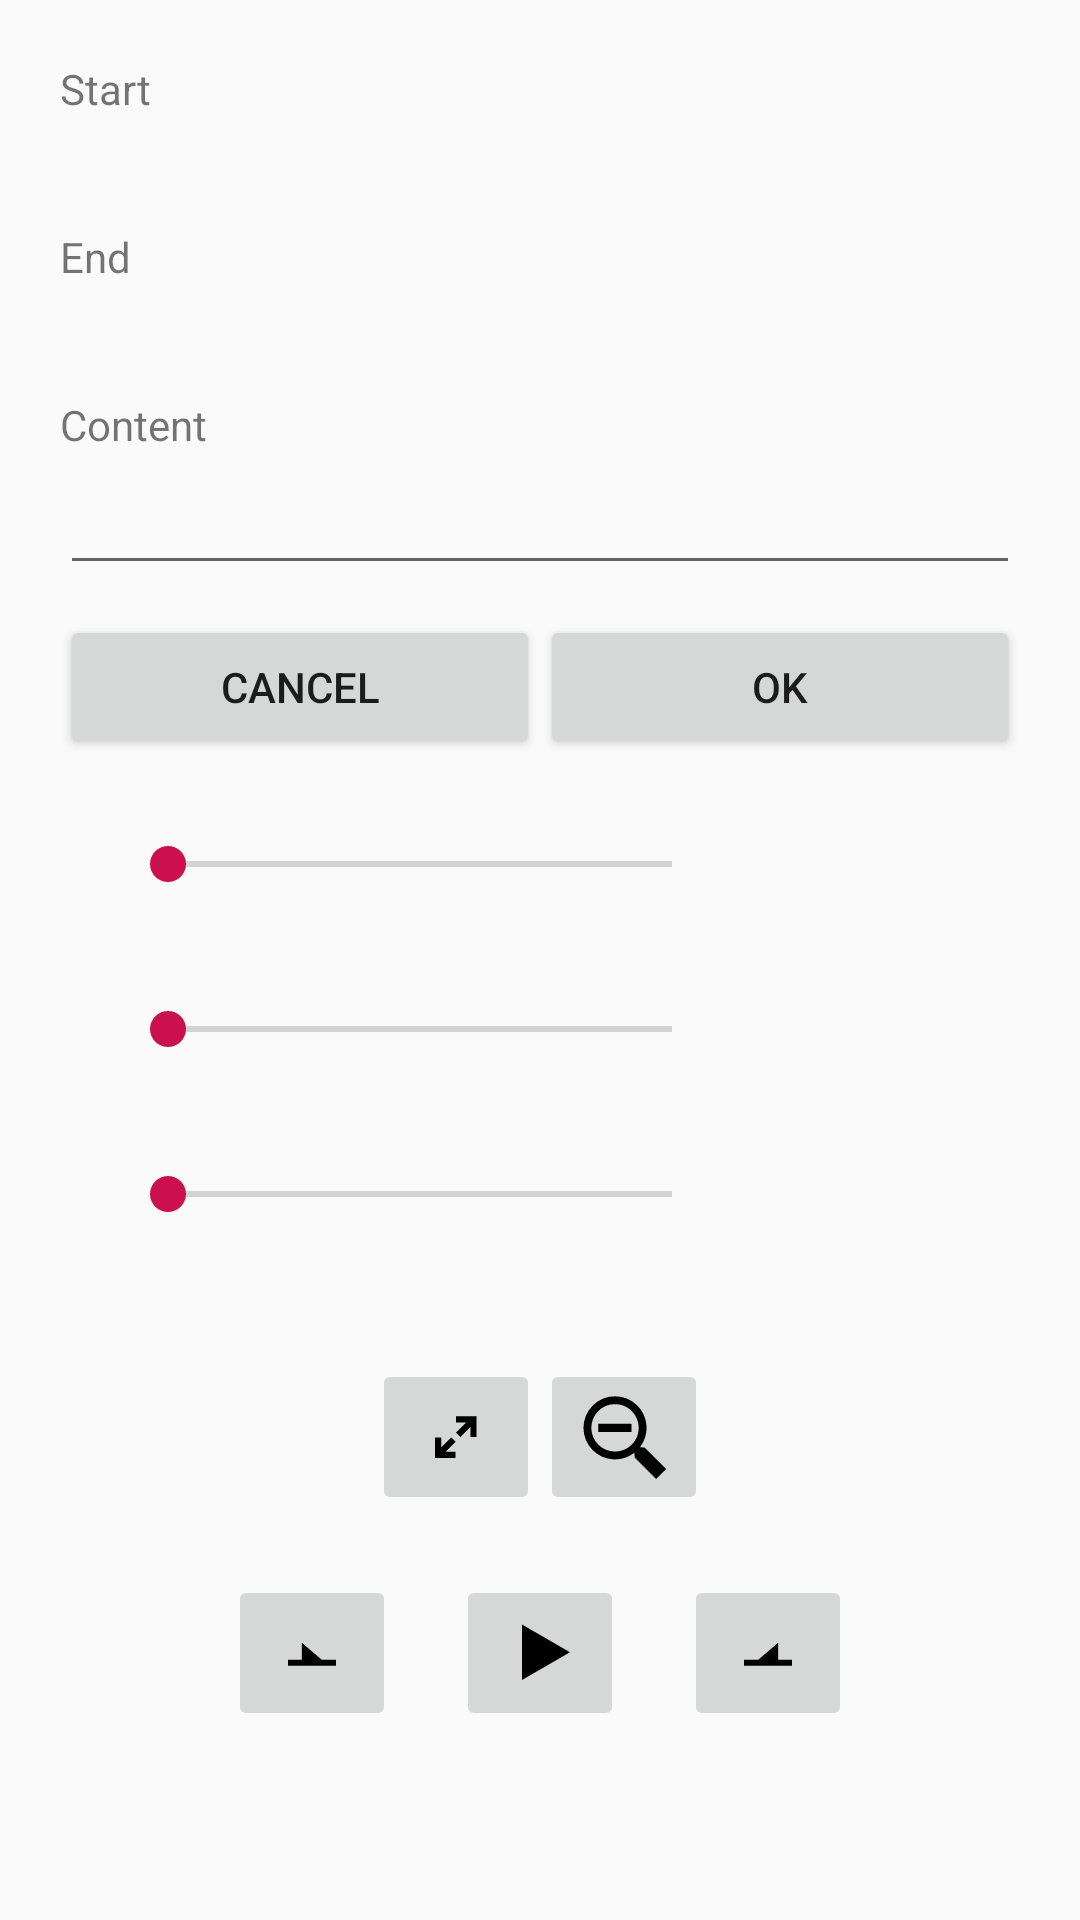

Point at icon controls on the screen. Image size 1080px x 1920px, points as (x=x, y=y).
play: (x=540, y=1653)
set end: (x=768, y=1653)
set start: (x=312, y=1653)
zoom out: (x=624, y=1437)
